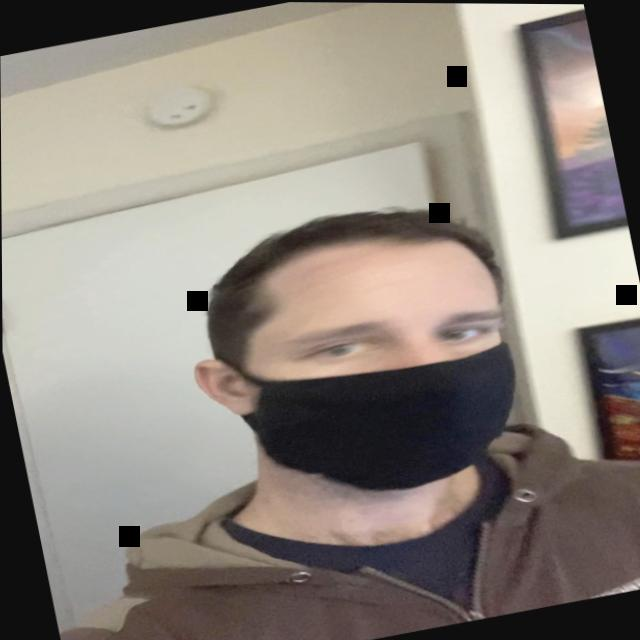Mask: (203, 182, 554, 521)
